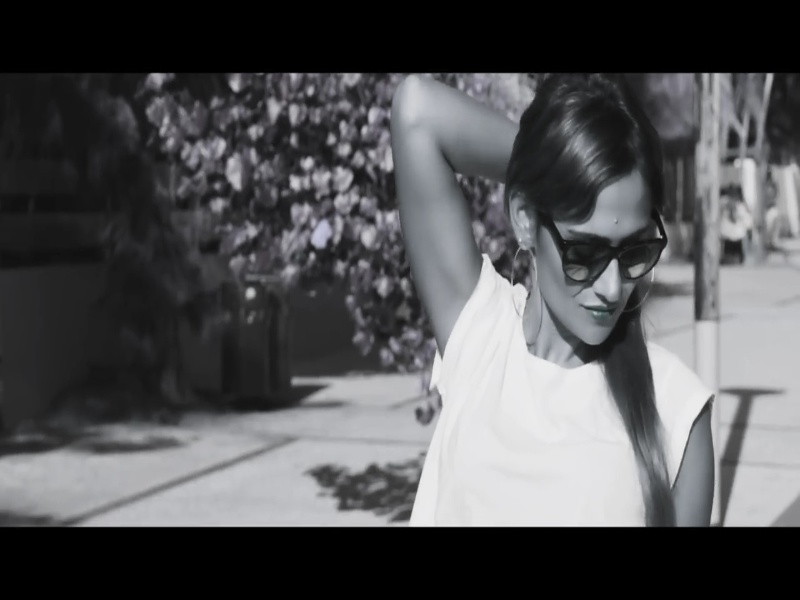TsisyArotava: (499, 87, 672, 371)
